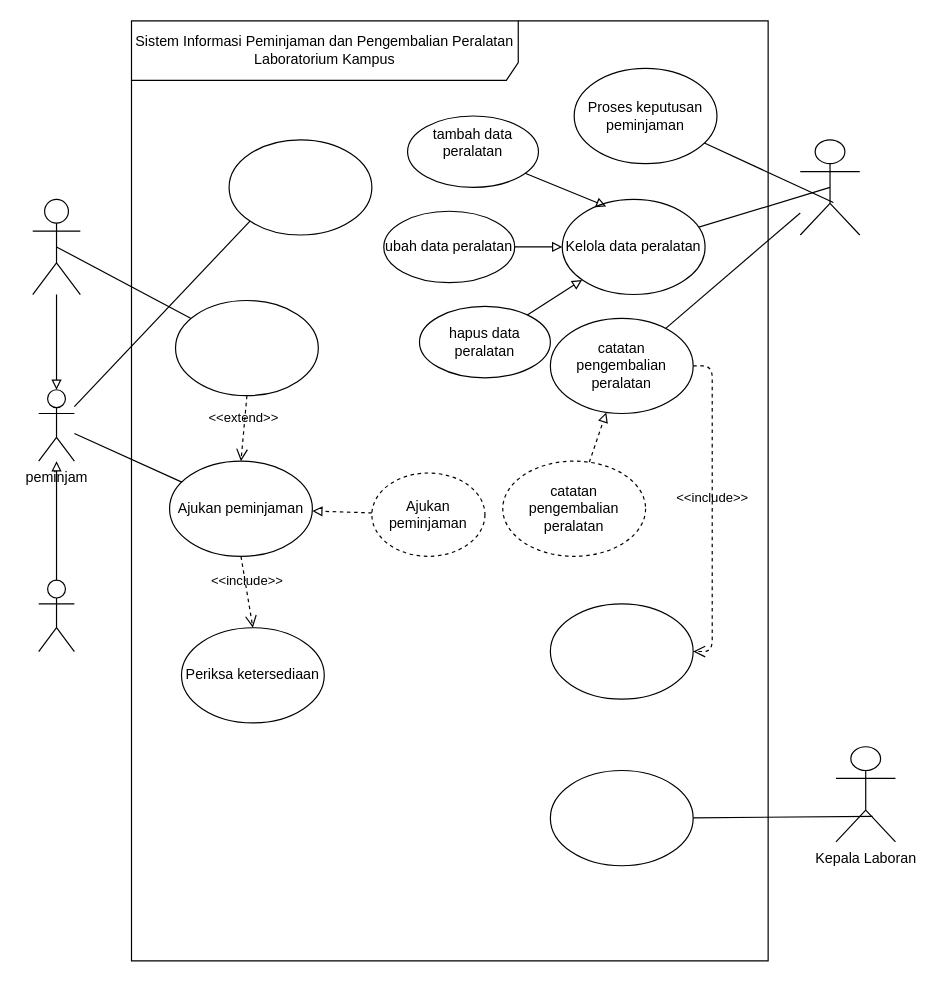
This 937x1003 diagram has some shape labels left out. The centre of each missing label's shape, as x and y in pixels:
"Catat bukti pengajuan" goes at [246,347].
"dosen" goes at [55,615].
"Lihat ketersediaan peralatan" goes at [300,187].
"Lihat laporan peminjaman" goes at [621,817].
"Mahasiswa" goes at [56,246].
"periksa kondisi peralatan" goes at [621,651].
"Petugas Laboran" goes at [829,187].
